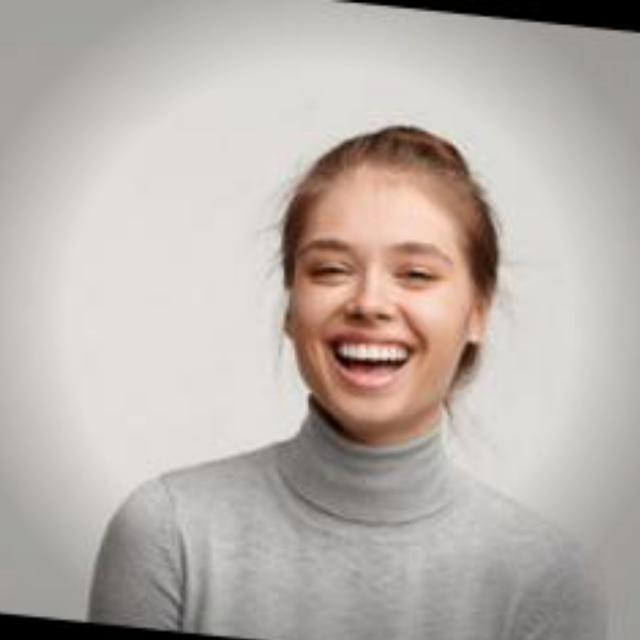Happy: (280, 174, 483, 435)
